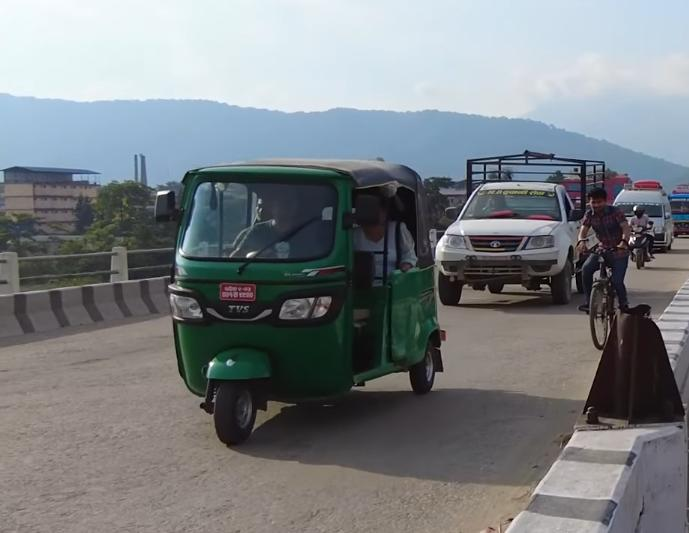auto_rickshaw: (146, 151, 448, 457)
bus: (665, 184, 689, 238)
micro_bus: (610, 184, 678, 257)
scooter: (625, 218, 653, 272)
transport_vehicle: (433, 148, 608, 313)
